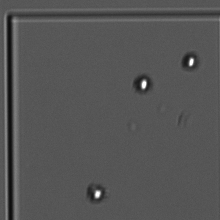Living Cell: (87, 182, 107, 204), (132, 73, 151, 95), (181, 51, 199, 70)
